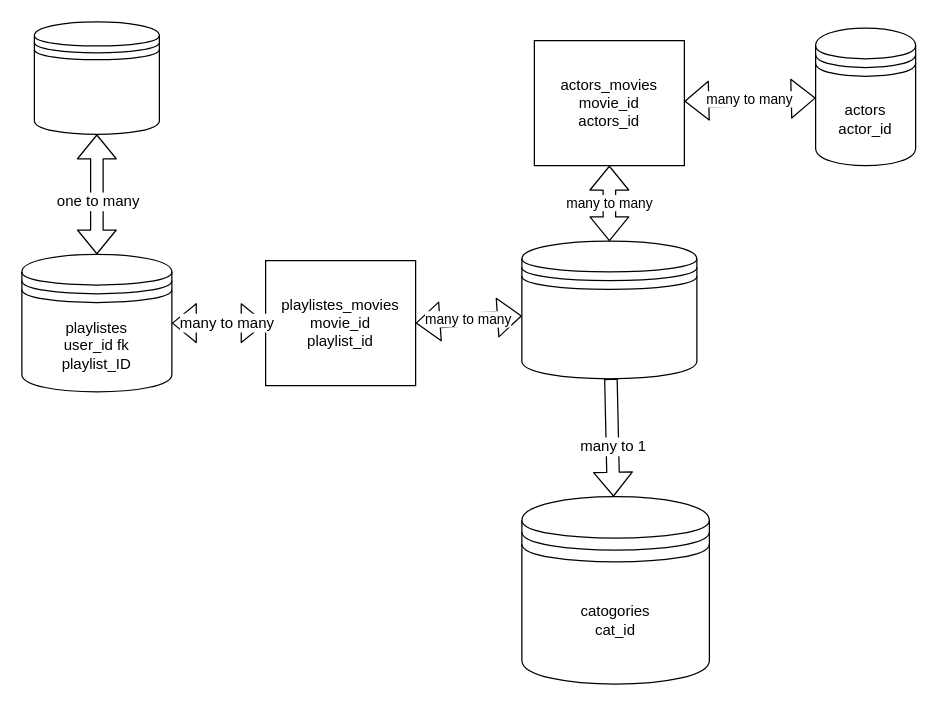
This 938x706 diagram has some shape labels left out. Each missing label, with the centre of its shape:
"movies movie_id cat_id fk" goes at [609,309].
"users user_id" goes at [96,77].
